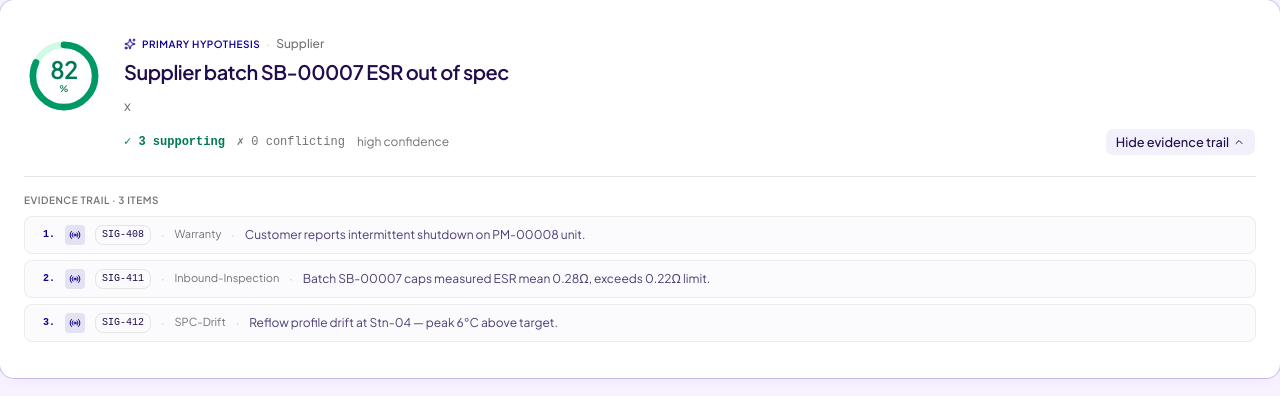
Test: PrimaryHypothesisCard › can collapse the evidence trail via the toggle
Click the button "Hide evidence trail" at (1180, 142), box [1105, 128, 1256, 156]
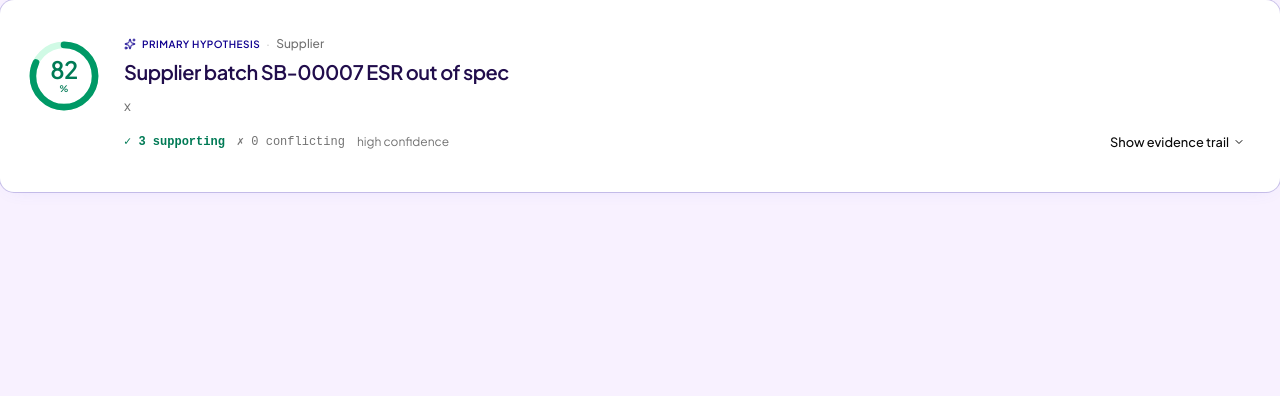
Check: the element with test id "evidence-trail" is gone
